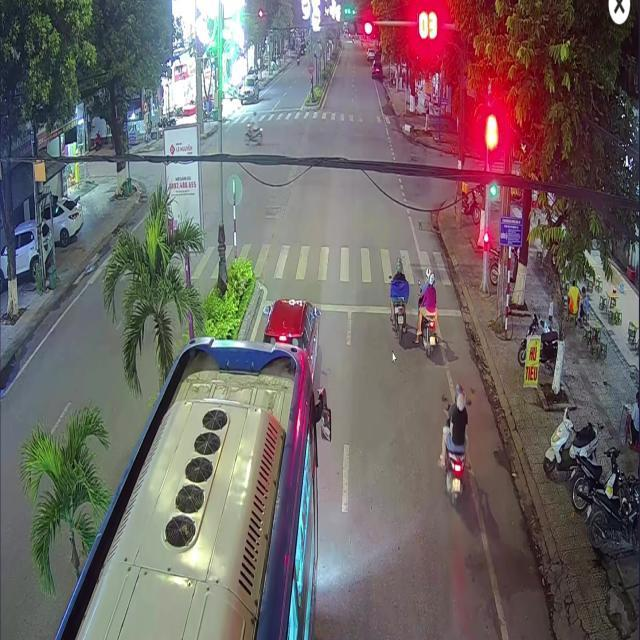car: (54, 378, 329, 639), (263, 296, 324, 387)
motobike: (389, 259, 411, 341), (417, 265, 437, 355)
red_light: (484, 110, 498, 172), (345, 13, 372, 38)
stop_line: (262, 299, 460, 316)
